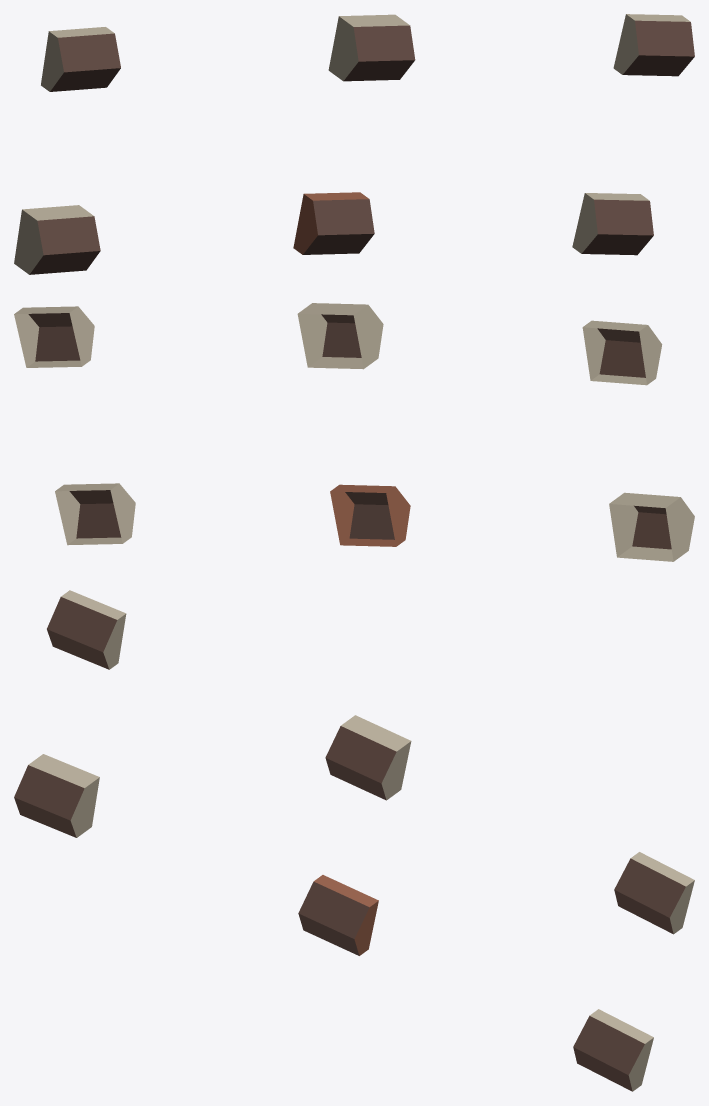
Rendered from island_bldg_05_08.obj.
3 views of the same model, one above another, from view 1: azimuth 30°, elevation 25°; view 2: azimuth 150°, elevation 25°; view 3: azimuth 330°, elevation 25° (orthographic).
Parts seen in each view (by area): view 1: island_bldg_05_08; view 2: island_bldg_05_08; view 3: island_bldg_05_08.
Boxes of the visible parts, x1,y1,x2,y2 form: island_bldg_05_08: (14,14,694,274); island_bldg_05_08: (14,303,694,561); island_bldg_05_08: (14,590,694,1091).
Size of the model in its own units: 184 by 94.54 by 12.58.
